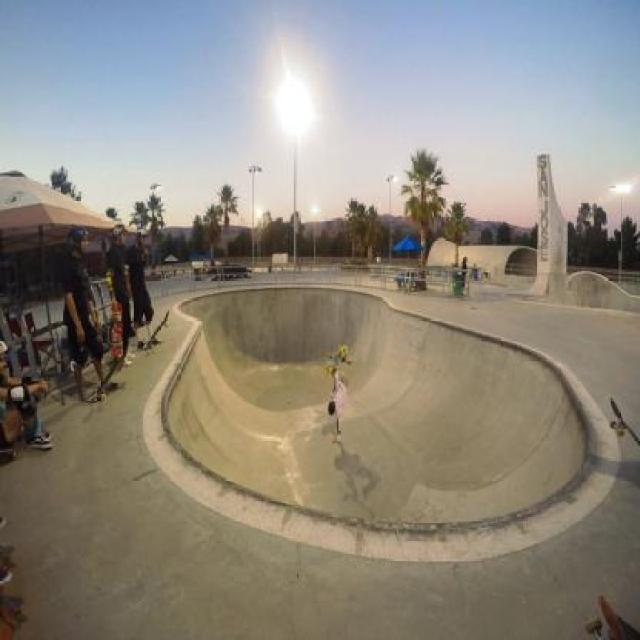Person: (64, 223, 118, 402), (0, 342, 54, 460), (128, 226, 161, 346), (108, 220, 130, 366), (330, 348, 352, 443), (460, 256, 468, 290), (485, 263, 489, 279)
